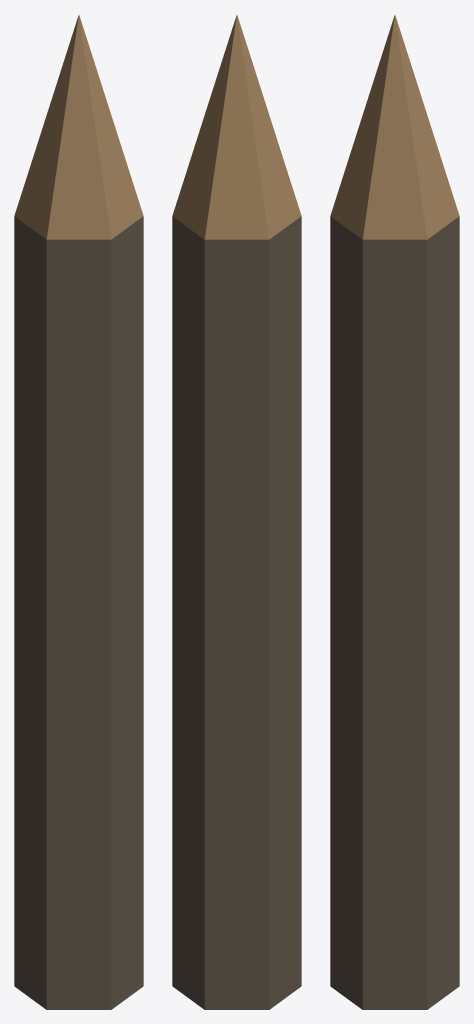
3 renders of one model, left to right at view 1: azimuth 90°, elevation 25°; view 2: azimuth 210°, elevation 25°; view 3: azimuth 270°, elevation 25°, orthographic.
Parts seen in each view (by area): view 1: shaft, tip; view 2: shaft, tip; view 3: shaft, tip.
Part boxes in pixels (box(x1,y1,x2,y2)): shaft: box(14, 216, 143, 1009); tip: box(14, 15, 143, 239); shaft: box(172, 216, 301, 1009); tip: box(172, 15, 301, 239); shaft: box(330, 216, 459, 1009); tip: box(330, 15, 459, 239).
Bounding box in the file's own units: 0.1881 × 1.8 × 0.2172.
